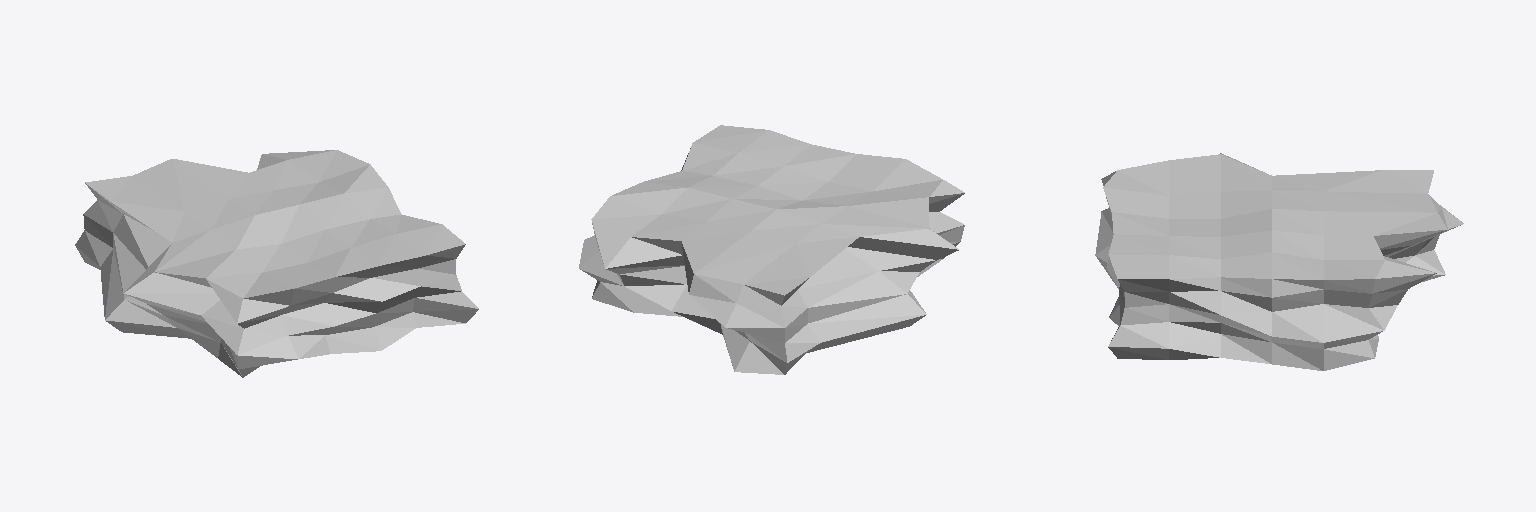
The model's file is Ice00.obj.
3 renders of one model, left to right at view 1: azimuth 30°, elevation 25°; view 2: azimuth 150°, elevation 25°; view 3: azimuth 270°, elevation 25°, orthographic.
Visible parts, largest first — view 1: Cube.018_Cube.025; view 2: Cube.018_Cube.025; view 3: Cube.018_Cube.025.
Part boxes in pixels (x1,y1,x2,y2): Cube.018_Cube.025: (75, 150, 478, 377); Cube.018_Cube.025: (579, 125, 964, 374); Cube.018_Cube.025: (1095, 153, 1463, 370).
Size of the model in its own units: 7.45 by 1.98 by 7.35.